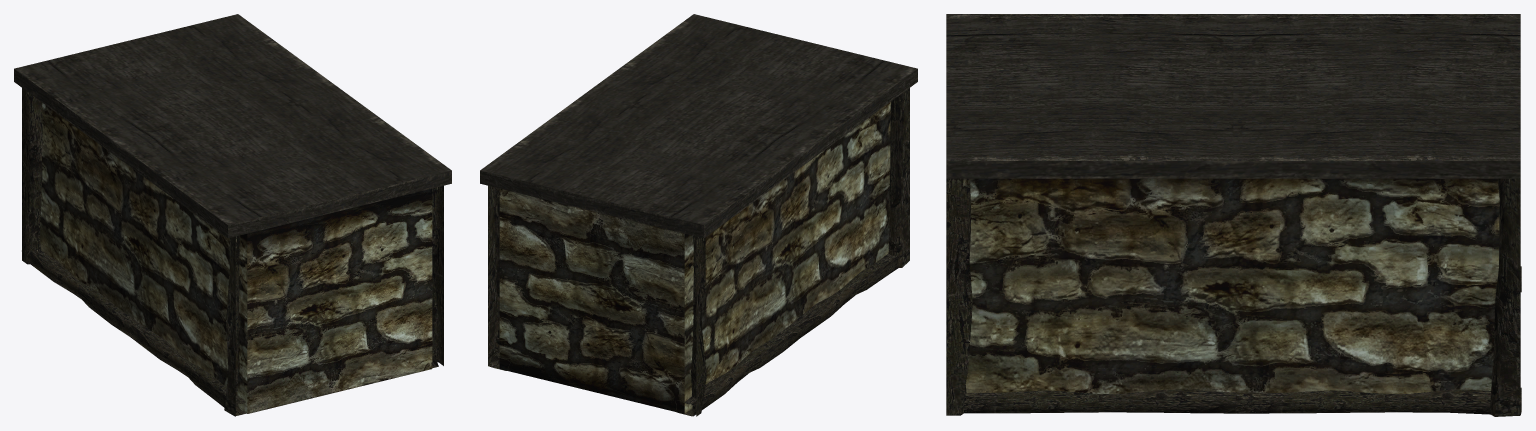
File: dividing_wall.dae
3 renders of one model, left to right at view 1: azimuth 30°, elevation 25°; view 2: azimuth 150°, elevation 25°; view 3: azimuth 270°, elevation 25°, orthographic. The views are drawn at different scales.
Visible parts, largest first — view 1: polySurface44, polySurface38, polySurface42; view 2: polySurface44, polySurface38, polySurface42; view 3: polySurface44, polySurface38, polySurface42.
Part boxes in pixels (left/top/right/bottom): polySurface44: left=40, top=103, right=432, bottom=413; polySurface38: left=14, top=14, right=451, bottom=238; polySurface42: left=22, top=88, right=443, bottom=416; polySurface44: left=499, top=102, right=890, bottom=413; polySurface38: left=480, top=14, right=917, bottom=238; polySurface42: left=488, top=88, right=909, bottom=416; polySurface44: left=965, top=178, right=1499, bottom=394; polySurface38: left=946, top=14, right=1520, bottom=178; polySurface42: left=946, top=178, right=1521, bottom=416.
Bounding box in the file's own units: 1.82 × 1.5 × 3.01.
